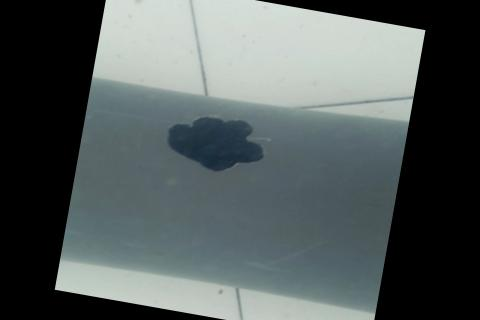kebocoran: (159, 103, 272, 180)
